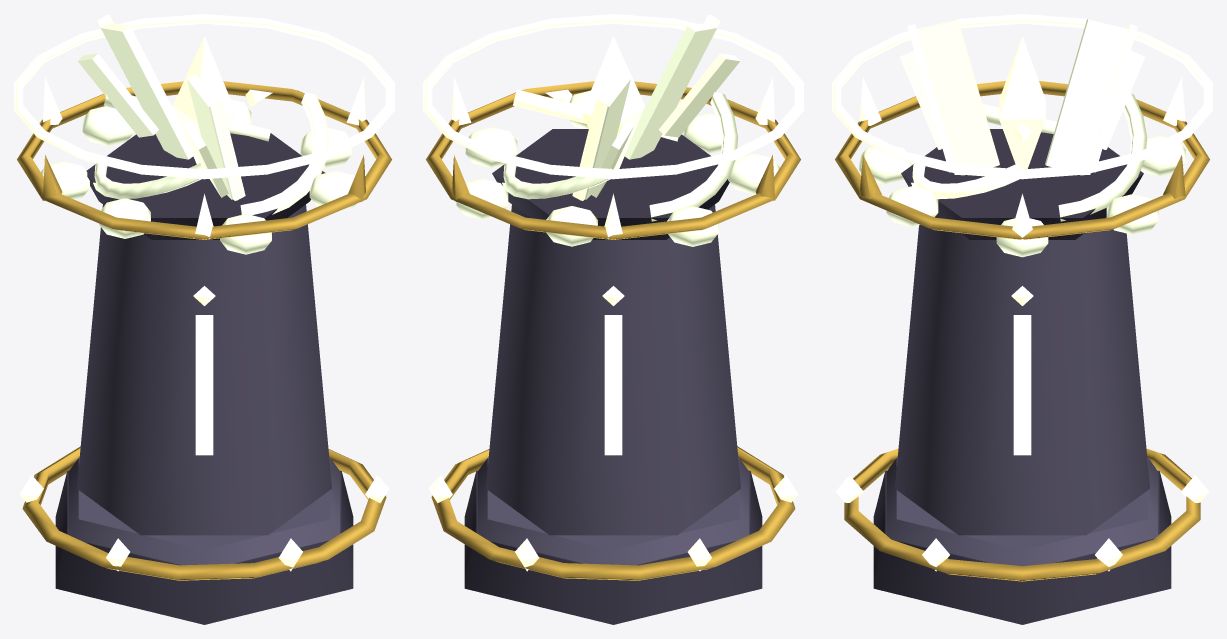
File: tower_element_elementTempest_ultimate.glb
The picture shows the model from 3 angles, left to right: view 1: azimuth 30°, elevation 25°; view 2: azimuth 150°, elevation 25°; view 3: azimuth 270°, elevation 25°; orthographic projection.
Parts seen in each view (by area): view 1: pillar, base, base_top, pillar_cap, ult_halo, ult_crown_band, ult_ring, wing_r_vane, rune_2, scoop_0_blade, crystal, wing_r_vane_b (+12 smaller); view 2: pillar, base, pillar_cap, base_top, ult_halo, ult_crown_band, ult_ring, wing_l_vane, rune_1, scoop_2_blade, crystal, wing_l_vane_b (+12 smaller); view 3: pillar, base, base_top, pillar_cap, ult_halo, ult_crown_band, ult_ring, wing_l_vane, wing_r_vane, crystal, rune_0, scoop_1_blade (+12 smaller).
Boxes of the visible parts, x1,y1,x2,y2 form: pillar: [77, 204, 331, 535]; base: [55, 470, 353, 624]; base_top: [68, 457, 340, 565]; pillar_cap: [86, 133, 325, 239]; ult_halo: [14, 14, 394, 179]; ult_crown_band: [17, 81, 391, 239]; ult_ring: [22, 446, 386, 580]; wing_r_vane: [101, 22, 193, 159]; rune_2: [195, 315, 213, 455]; scoop_0_blade: [240, 92, 329, 214]; crystal: [173, 36, 235, 169]; wing_r_vane_b: [78, 53, 158, 137]; pillar: [486, 204, 740, 535]; base: [464, 470, 762, 624]; pillar_cap: [492, 129, 729, 239]; base_top: [477, 457, 749, 565]; ult_halo: [423, 14, 803, 179]; ult_crown_band: [426, 81, 800, 239]; ult_ring: [431, 446, 795, 580]; wing_l_vane: [624, 22, 716, 159]; rune_1: [604, 315, 622, 455]; scoop_2_blade: [649, 92, 738, 221]; crystal: [582, 36, 644, 169]; wing_l_vane_b: [659, 53, 739, 137]; pillar: [895, 215, 1149, 535]; base: [873, 470, 1171, 624]; base_top: [886, 457, 1158, 566]; pillar_cap: [901, 129, 1143, 239]; ult_halo: [832, 14, 1212, 179]; ult_crown_band: [835, 81, 1209, 239]; ult_ring: [844, 449, 1200, 581]; wing_l_vane: [916, 19, 999, 175]; wing_r_vane: [1045, 19, 1128, 175]; crystal: [999, 36, 1045, 169]; rune_0: [1013, 315, 1031, 455]; scoop_1_blade: [1058, 93, 1147, 221].
Bounding box in the file's own units: 0.434 × 0.64 × 0.4274.
